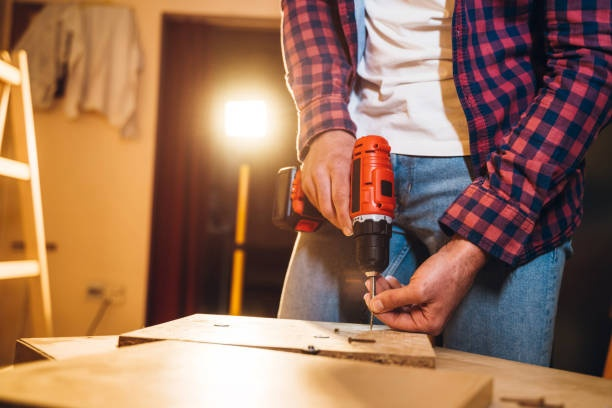driller: (271, 133, 396, 331)
